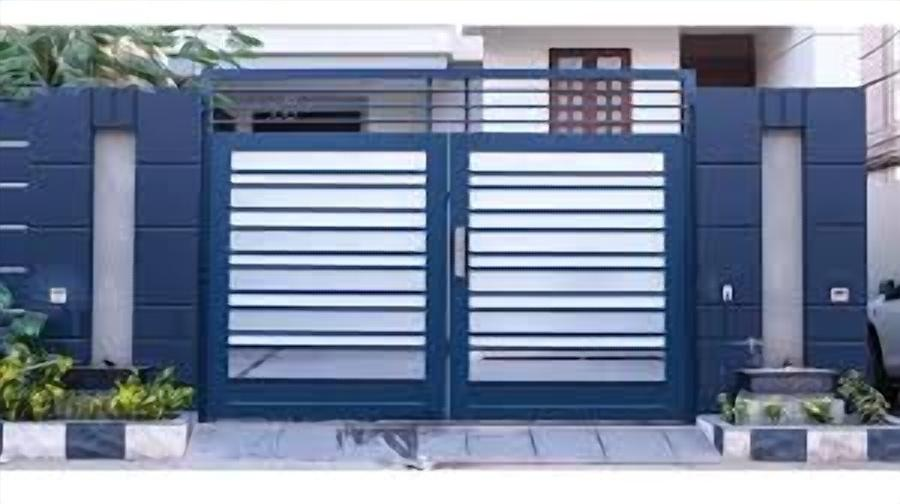Car: (857, 274, 900, 395)
Door: (681, 36, 757, 153)
Gate: (198, 68, 700, 423)
Window-without-grill: (214, 103, 366, 169), (549, 48, 631, 141)
